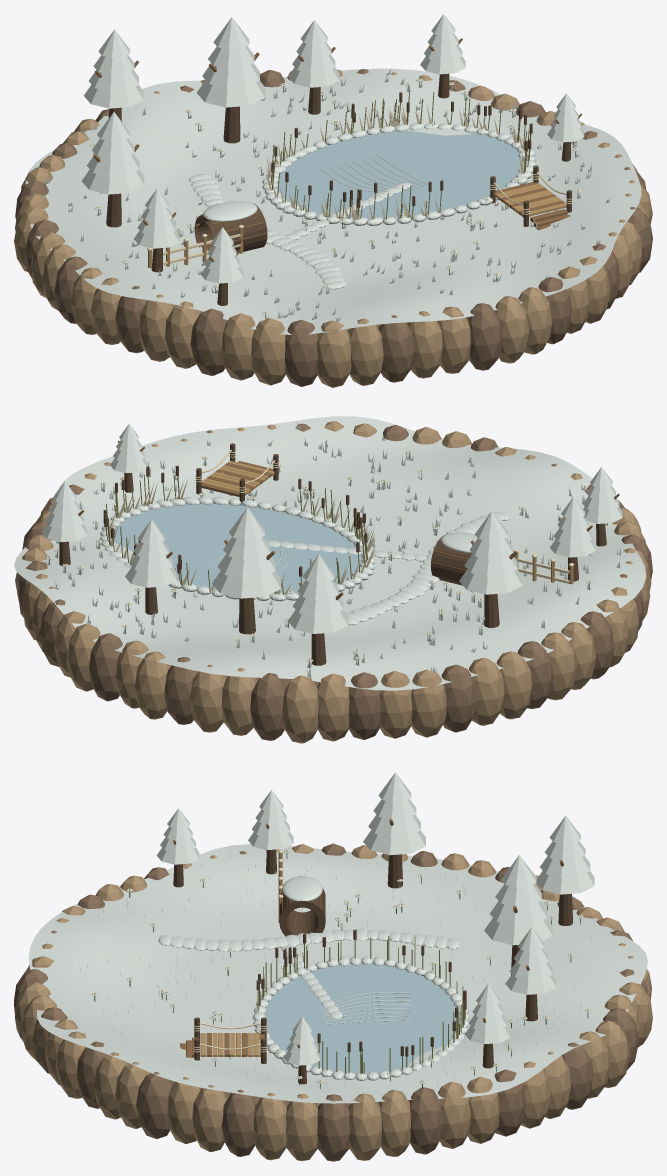
File: winter-BFbAaGt2.glb
3 views of the same model, one above another, from view 1: azimuth 30°, elevation 25°; view 2: azimuth 150°, elevation 25°; view 3: azimuth 270°, elevation 25° (orthographic).
Visible parts, largest first — view 1: Environment_snow, Environment_cliff, Environment_earth, Lake_surface, Environment_wooddark, Environment_cream, Environment_reed, Environment_wood, Environment_woodlight; view 2: Environment_snow, Environment_cliff, Environment_earth, Lake_surface, Environment_wooddark, Environment_cream, Environment_reed, Environment_woodlight, Environment_wood; view 3: Environment_snow, Environment_cliff, Environment_earth, Lake_surface, Environment_wooddark, Environment_reed, Environment_woodlight, Environment_wood, Environment_cream.
Boxes of the visible parts, bbox=[...] form: Environment_snow: bbox=[25, 14, 641, 334]; Environment_cliff: bbox=[14, 69, 652, 387]; Environment_earth: bbox=[15, 69, 652, 386]; Lake_surface: bbox=[276, 130, 523, 219]; Environment_wooddark: bbox=[106, 73, 571, 305]; Environment_cream: bbox=[147, 103, 572, 266]; Environment_reed: bbox=[270, 92, 531, 220]; Environment_wood: bbox=[93, 38, 582, 261]; Environment_woodlight: bbox=[148, 183, 566, 268]; Environment_snow: bbox=[14, 416, 646, 690]; Environment_cliff: bbox=[15, 421, 651, 743]; Environment_earth: bbox=[17, 423, 652, 740]; Lake_surface: bbox=[114, 503, 362, 593]; Environment_wooddark: bbox=[59, 443, 606, 665]; Environment_cream: bbox=[107, 449, 573, 594]; Environment_reed: bbox=[105, 474, 367, 594]; Environment_woodlight: bbox=[201, 461, 573, 584]; Environment_wood: bbox=[50, 440, 619, 600]; Environment_snow: bbox=[28, 772, 647, 1103]; Environment_cliff: bbox=[15, 844, 652, 1161]; Environment_earth: bbox=[14, 843, 647, 1161]; Lake_surface: bbox=[264, 963, 457, 1074]; Environment_wooddark: bbox=[173, 849, 572, 1084]; Environment_reed: bbox=[257, 935, 465, 1073]; Environment_woodlight: bbox=[200, 853, 282, 1056]; Environment_wood: bbox=[173, 819, 563, 1057]; Environment_cream: bbox=[193, 850, 462, 1070].
Bounding box in the file's own units: 20.5 × 6.33 × 20.63.
